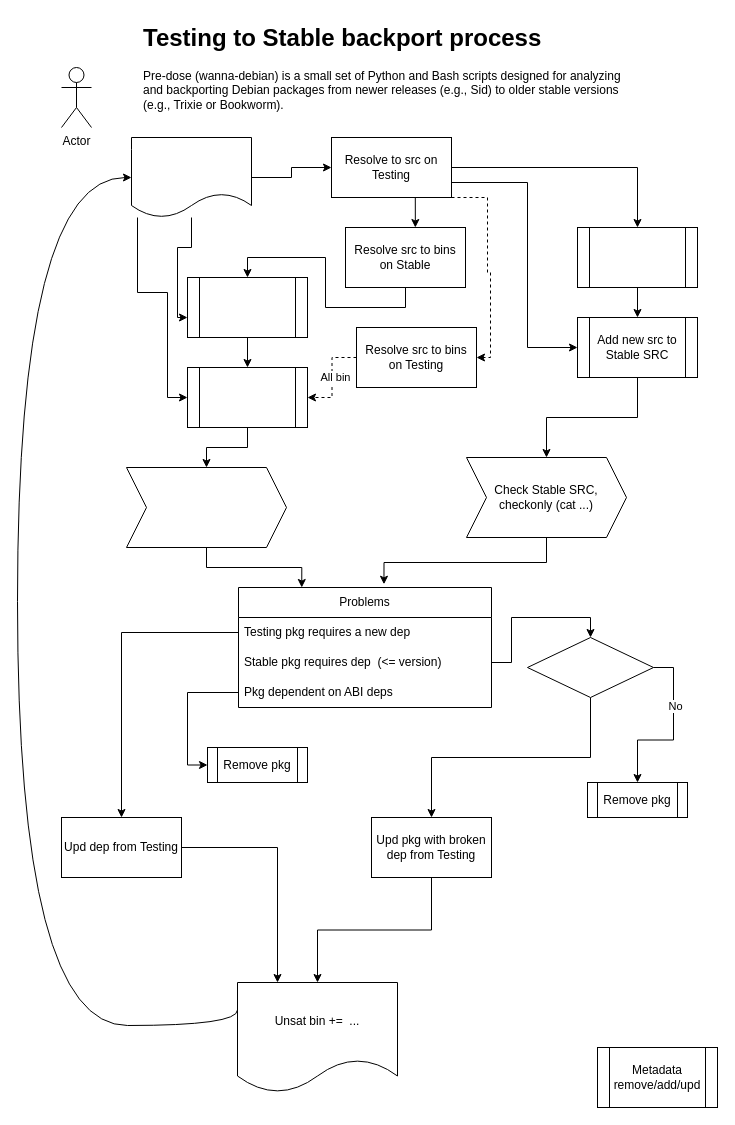
Image size: 735x1125. Some labels were removed from this diagram. The shapes that lost their labels are listed below. From the top down, each one's box as (x1, y1, x2, y2) in pixels, then its label:
(130, 136, 252, 218): Backport packets from Testing (binary)
(576, 226, 698, 288): Remove old from Stable SRC
(186, 276, 308, 338): Remove old from Stable BIN
(186, 366, 308, 428): Add new bin to Stable BIN
(126, 466, 286, 548): Check Stable BIN, checkonly (cat ...)
(526, 636, 654, 698): Not found?
